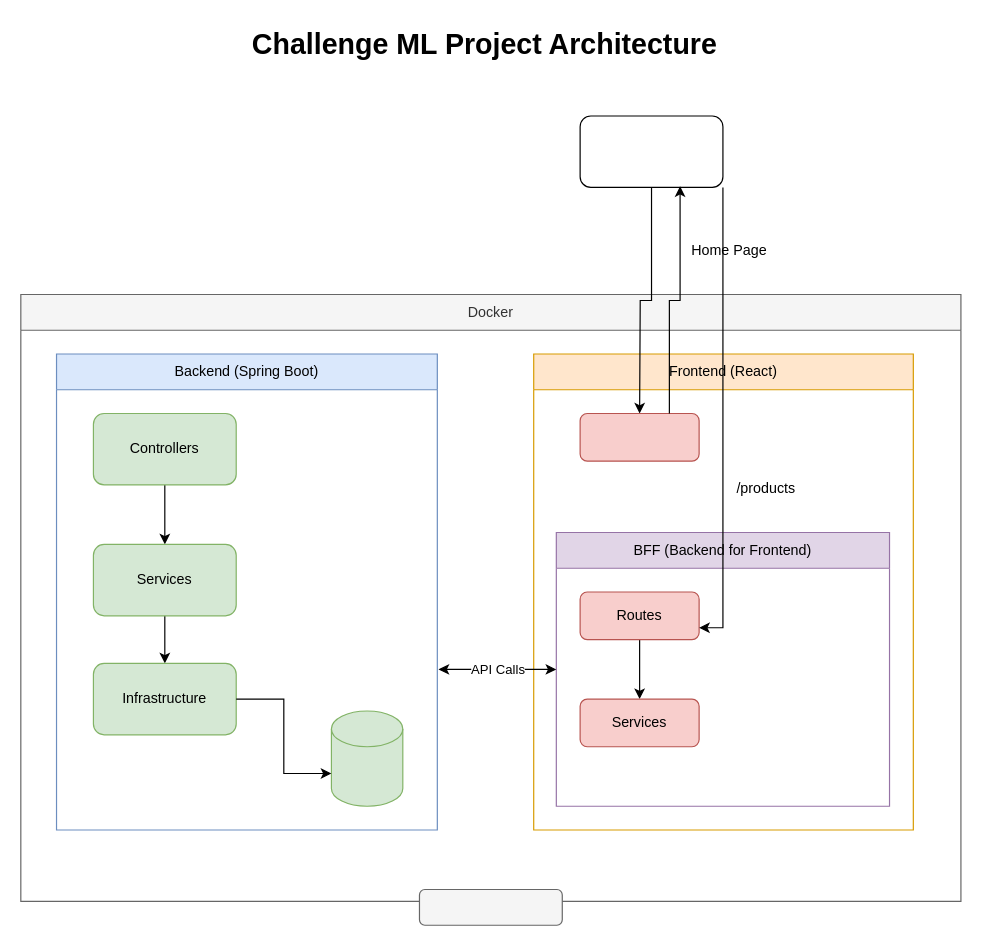
This 982x946 diagram has some shape labels left out. The shapes that lost their labels are listed below. From the top down, each one's centre as x and y in pixels, then its label:
At (x=651, y=151): "BROWSER".
At (x=639, y=436): "React SSR".
At (x=366, y=758): "JSON".
At (x=490, y=906): "docker-compose.yml".
